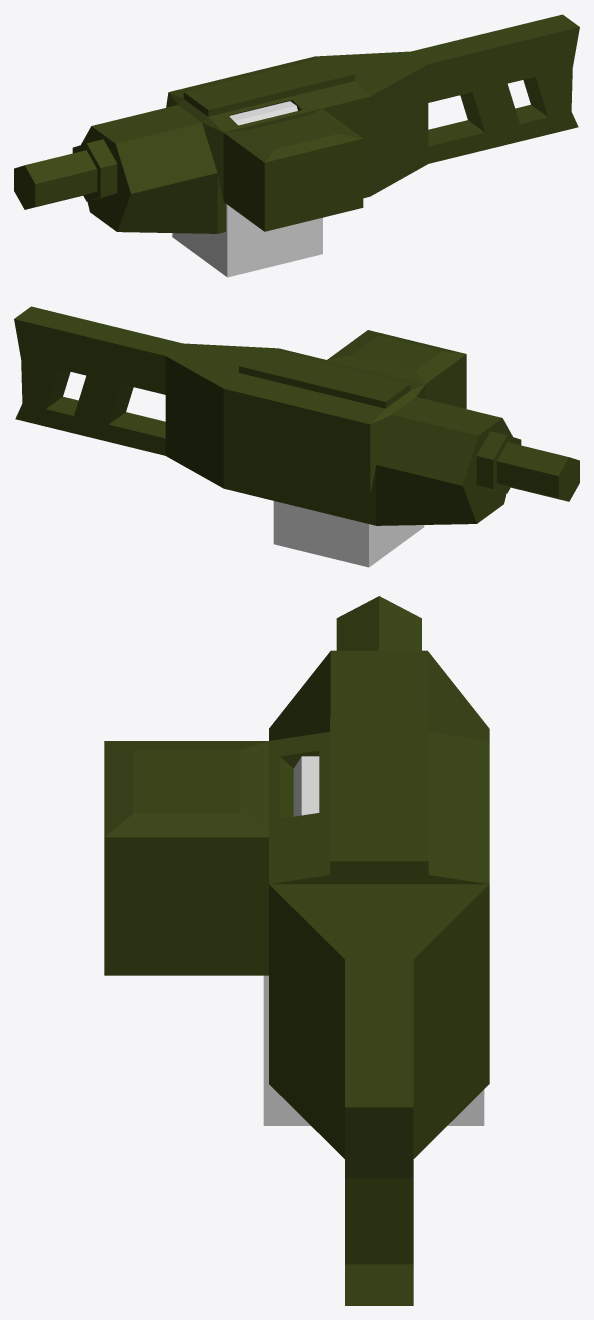
File: RocketLauncher.fbx
3 views of the same model, one above another, from view 1: azimuth 30°, elevation 25°; view 2: azimuth 150°, elevation 25°; view 3: azimuth 270°, elevation 25° (orthographic). The views are drawn at different scales.
Parts seen in each view (by area): view 1: Chassis, Crate, Percutor; view 2: Chassis, Crate; view 3: Chassis, Crate, Percutor.
Boxes of the visible parts, <box> form: Chassis: <box>14,14,579,233</box>; Crate: <box>172,204,322,277</box>; Percutor: <box>229,101,297,125</box>; Chassis: <box>14,306,579,525</box>; Crate: <box>273,501,424,567</box>; Chassis: <box>104,596,489,1305</box>; Crate: <box>263,975,484,1125</box>; Percutor: <box>293,756,319,816</box>.
Bounding box in the file's own units: 403 × 110 × 123.
